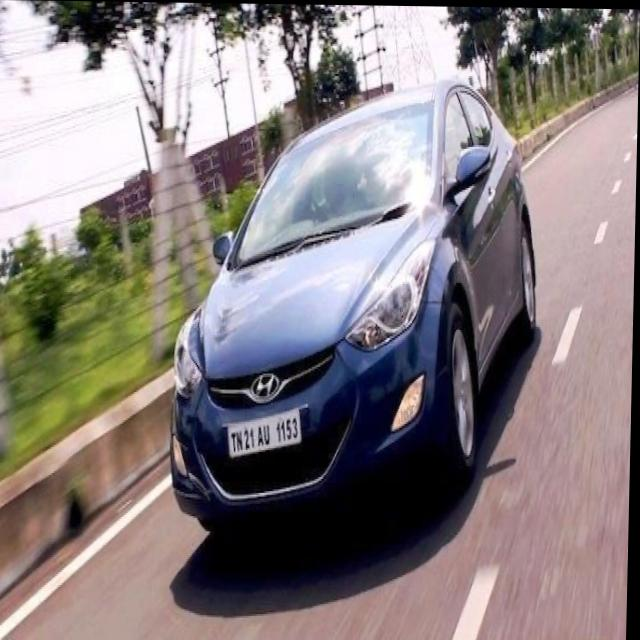licence: (217, 406, 309, 476)
